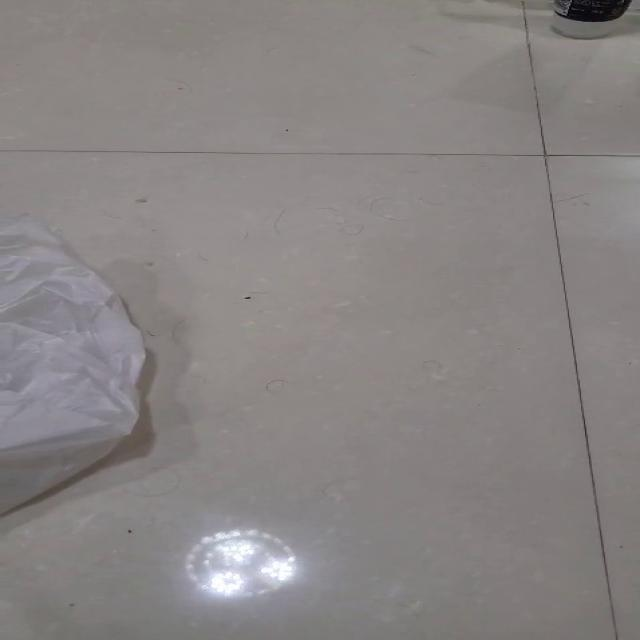plastic: (0, 212, 147, 515)
